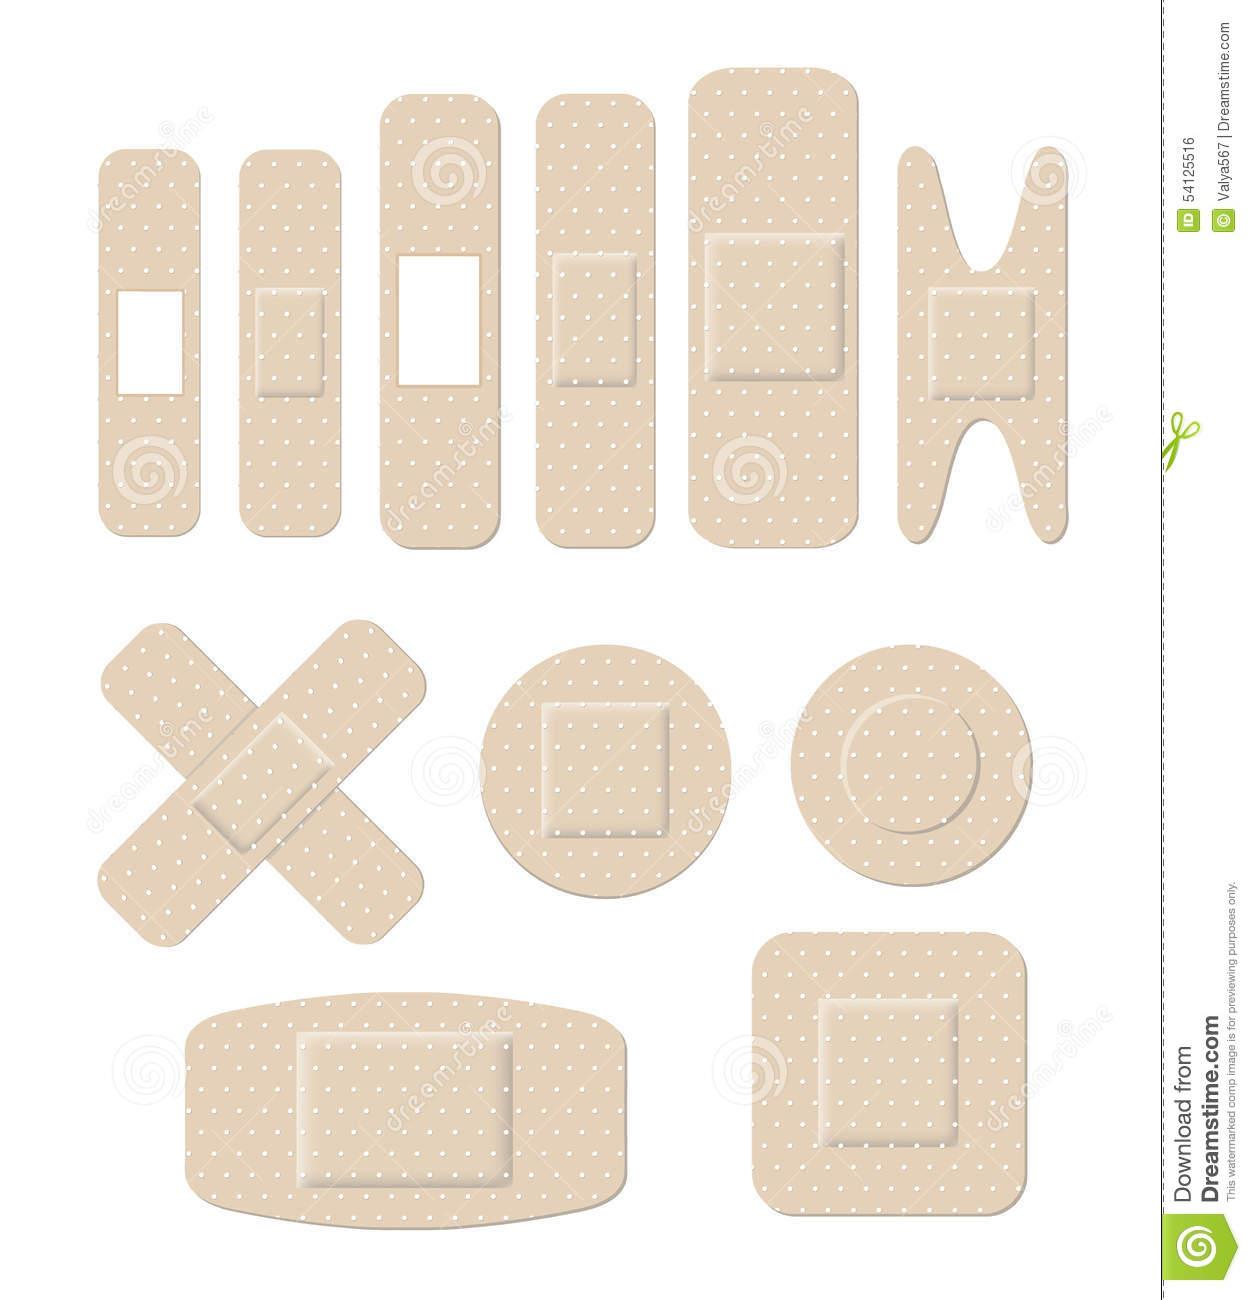bandage: (95, 621, 425, 945), (183, 990, 623, 1233), (690, 65, 859, 552), (753, 929, 1028, 1220), (901, 143, 1075, 540), (485, 638, 729, 898), (793, 642, 1028, 893), (533, 88, 659, 550), (381, 88, 502, 547), (236, 145, 349, 536), (97, 145, 203, 536)
